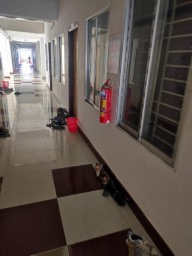fire_extinguisher: (59, 105, 93, 124)
